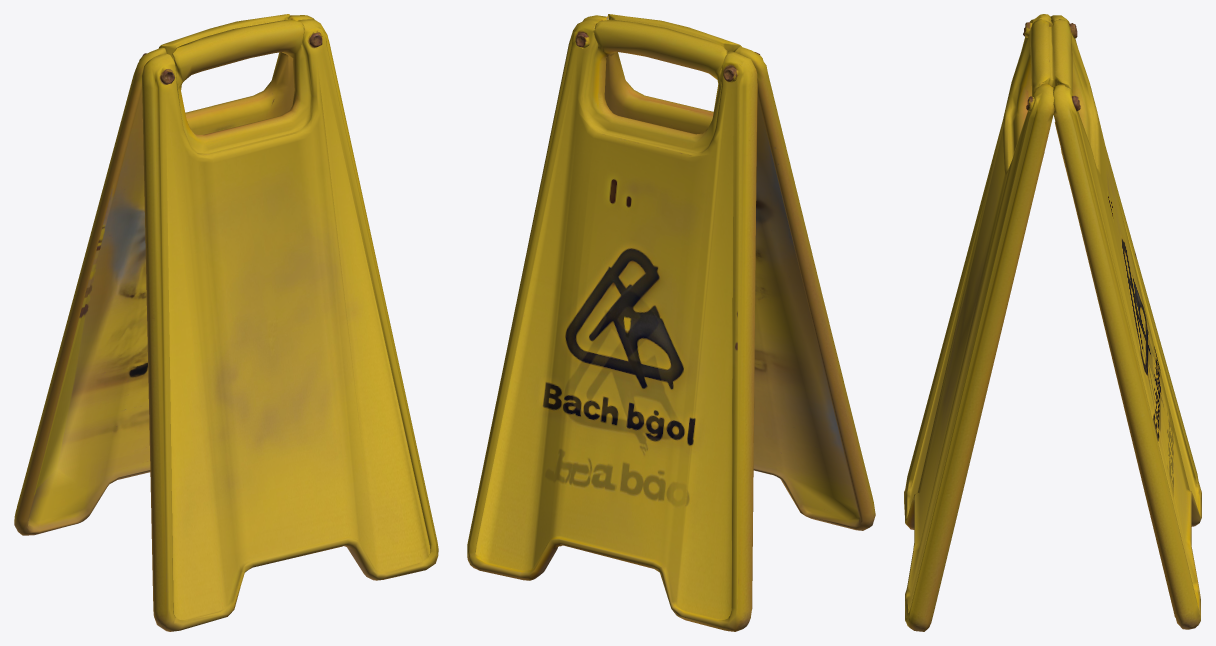
The model's file is wet_floor_sign.glb.
The picture shows the model from 3 angles, left to right: view 1: azimuth 30°, elevation 25°; view 2: azimuth 150°, elevation 25°; view 3: azimuth 270°, elevation 25°; orthographic projection.
Size of the model in its own units: 0.2034 by 0.35 by 0.1801.
Materials: 1 (1 with a texture image).
